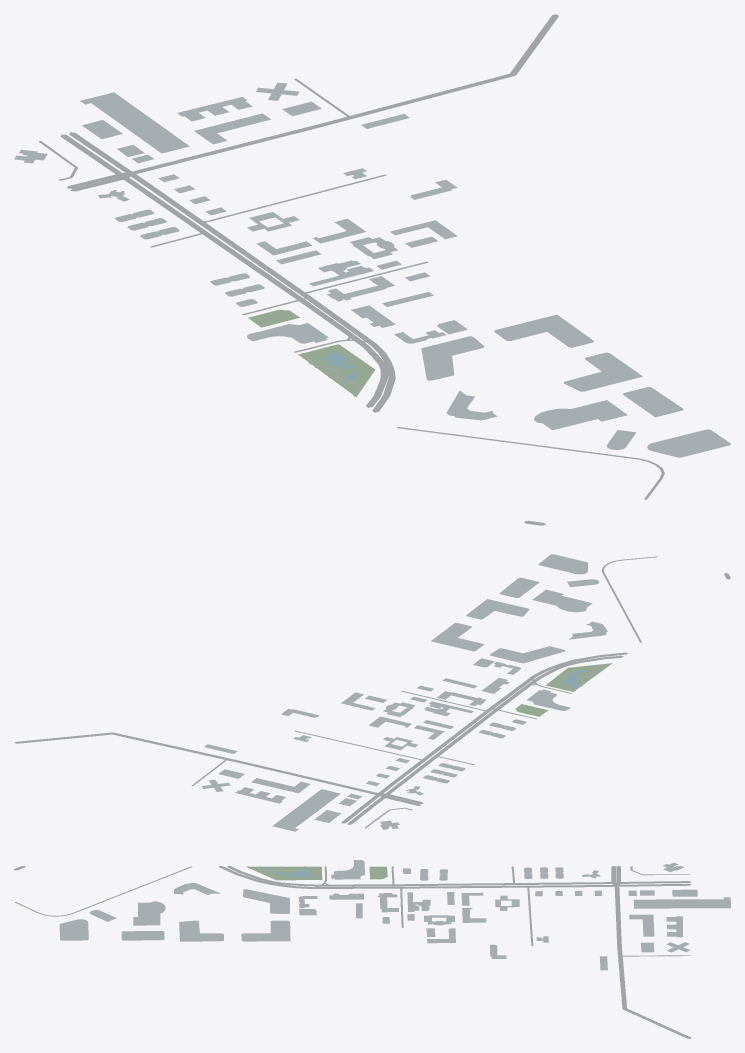
Rendered from -12_3-known-fine.glb.
3 views of the same model, one above another, from view 1: azimuth 30°, elevation 25°; view 2: azimuth 150°, elevation 25°; view 3: azimuth 270°, elevation 25° (orthographic). The views are drawn at different scales.
Bounding box in the file's own units: 625 × 0.15 × 1059.
